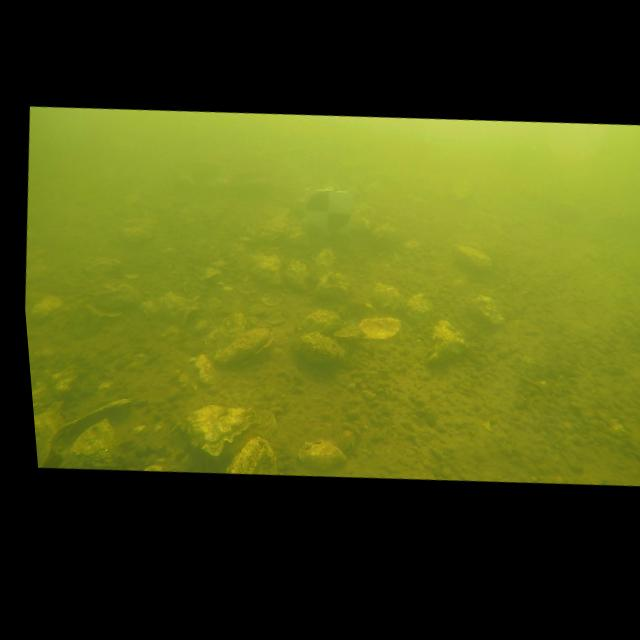Oyster-Closed: (186, 405, 277, 455), (211, 326, 271, 367), (227, 437, 277, 474), (140, 292, 198, 323), (429, 319, 467, 362), (296, 332, 344, 362), (298, 440, 346, 470), (94, 282, 142, 311), (454, 246, 491, 277), (298, 309, 343, 333), (315, 272, 350, 299), (251, 252, 280, 284), (473, 295, 504, 323), (374, 283, 406, 310), (406, 293, 432, 322), (285, 260, 309, 290), (312, 248, 336, 277)
Oyster-Indeterminate: (66, 418, 126, 470), (34, 401, 63, 467), (200, 313, 247, 353)
Oyster-Open: (358, 316, 401, 338)
